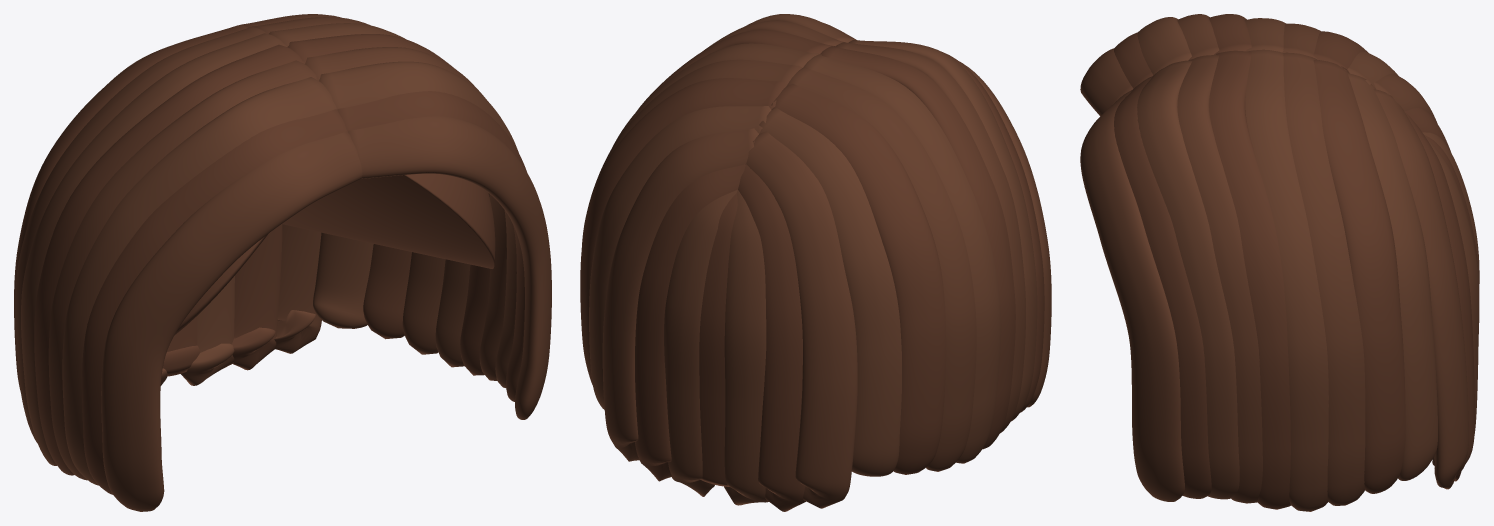
The model's file is hair-bob-sculpted.glb.
3 renders of one model, left to right at view 1: azimuth 30°, elevation 25°; view 2: azimuth 150°, elevation 25°; view 3: azimuth 270°, elevation 25°, orthographic. The views are drawn at different scales.
Parts seen in each view (by area): view 1: Hair / bob -1 0, Hair / bob 1 0, Hair / bob -1 2, Recessed roots, Hair / bob -1 1, Hair / bob -1 4, Hair / bob -1 3, Hair / bob -1 5, Hair / bob 1 2, Hair / bob -1 6, Hair / bob 1 1, Hair / bob 1 10 (+10 smaller); view 2: Hair / bob -1 9, Hair / bob -1 7, Hair / bob -1 8, Hair / bob -1 6, Hair / bob 1 9, Hair / bob -1 10, Hair / bob -1 5, Hair / bob -1 11, Hair / bob 1 11, Hair / bob 1 10, Hair / bob -1 4, Hair / bob 1 8 (+11 smaller); view 3: Hair / bob 1 7, Hair / bob 1 0, Hair / bob 1 5, Hair / bob 1 6, Hair / bob 1 4, Hair / bob 1 2, Hair / bob 1 3, Hair / bob 1 8, Hair / bob 1 1, Hair / bob 1 9, Hair / bob 1 10, Hair / bob 1 11 (+13 smaller).
Part boxes in pixels (left/top/right/bottom): Hair / bob -1 0: left=101, top=131, right=362, bottom=511; Hair / bob 1 0: left=348, top=116, right=551, bottom=419; Hair / bob -1 2: left=62, top=77, right=336, bottom=485; Recessed roots: left=175, top=173, right=495, bottom=334; Hair / bob -1 1: left=82, top=109, right=347, bottom=494; Hair / bob -1 4: left=34, top=44, right=305, bottom=475; Hair / bob -1 3: left=48, top=60, right=317, bottom=480; Hair / bob -1 5: left=21, top=33, right=286, bottom=465; Hair / bob 1 2: left=319, top=61, right=518, bottom=387; Hair / bob -1 6: left=15, top=27, right=266, bottom=443; Hair / bob 1 1: left=337, top=91, right=526, bottom=401; Hair / bob 1 10: left=232, top=224, right=282, bottom=370; Hair / bob -1 9: left=746, top=131, right=857, bottom=508; Hair / bob -1 7: left=771, top=83, right=946, bottom=474; Hair / bob -1 8: left=759, top=108, right=901, bottom=476; Hair / bob -1 6: left=787, top=67, right=976, bottom=471; Hair / bob 1 9: left=602, top=128, right=758, bottom=461; Hair / bob -1 10: left=738, top=164, right=805, bottom=511; Hair / bob -1 5: left=803, top=54, right=1001, bottom=463; Hair / bob -1 11: left=724, top=190, right=768, bottom=505; Hair / bob 1 11: left=664, top=190, right=737, bottom=496; Hair / bob 1 10: left=635, top=164, right=745, bottom=481; Hair / bob -1 4: left=820, top=46, right=1015, bottom=449; Hair / bob 1 8: left=589, top=106, right=771, bottom=409; Hair / bob 1 7: left=1313, top=60, right=1405, bottom=493; Hair / bob 1 0: left=1080, top=89, right=1184, bottom=501; Hair / bob 1 5: left=1245, top=49, right=1328, bottom=511; Hair / bob 1 6: left=1283, top=52, right=1365, bottom=505; Hair / bob 1 4: left=1209, top=50, right=1290, bottom=509; Hair / bob 1 2: left=1137, top=60, right=1239, bottom=499; Hair / bob 1 3: left=1177, top=55, right=1262, bottom=503; Hair / bob 1 8: left=1347, top=73, right=1437, bottom=480; Hair / bob 1 1: left=1114, top=76, right=1211, bottom=498; Hair / bob 1 9: left=1373, top=89, right=1468, bottom=489; Hair / bob 1 10: left=1405, top=112, right=1474, bottom=481; Hair / bob 1 11: left=1424, top=135, right=1479, bottom=435.
Size of the model in its own units: 1.13 by 0.9971 by 0.8938.
